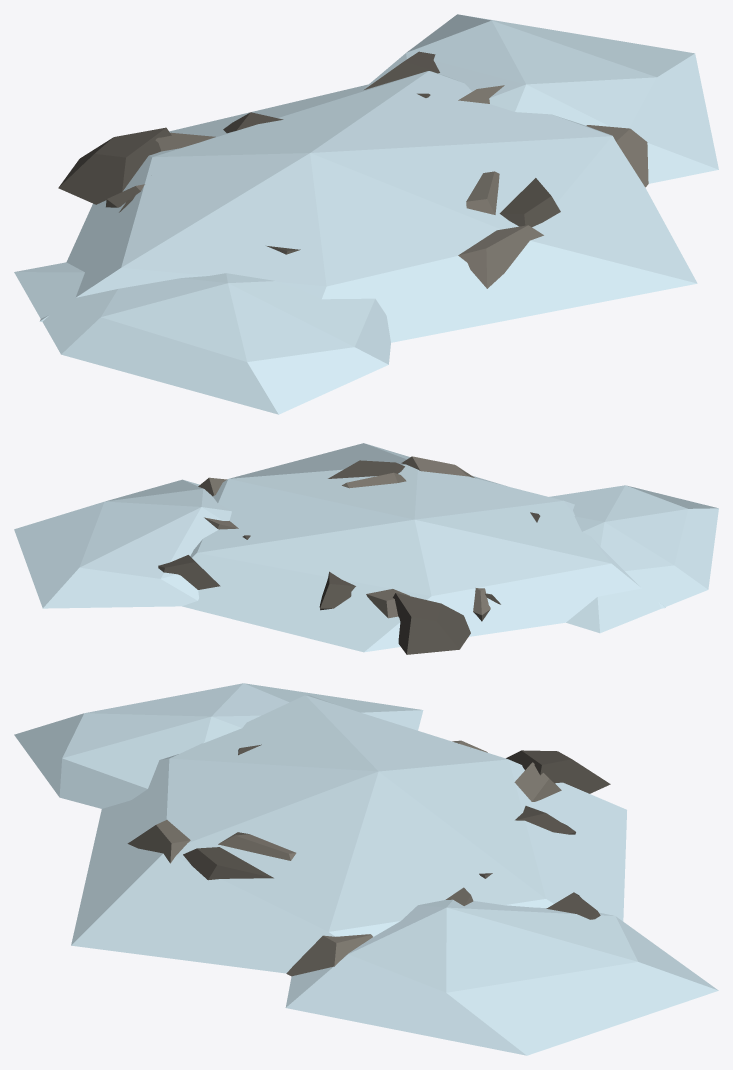
Rendered from props_mountains.glb.
3 renders of one model, top to bottom at view 1: azimuth 30°, elevation 25°; view 2: azimuth 150°, elevation 25°; view 3: azimuth 270°, elevation 25°, orthographic. The views are drawn at different scales.
Visible parts, largest first — view 1: Mtn_SnowPatch_LOD0, Mtn_ScreeSheet_LOD0, Mtn_FrostShards_LOD0, Mtn_TalusFan_LOD0; view 2: Mtn_SnowPatch_LOD0, Mtn_ScreeSheet_LOD0, Mtn_FrostShards_LOD0, Mtn_TalusFan_LOD0; view 3: Mtn_SnowPatch_LOD0, Mtn_ScreeSheet_LOD0, Mtn_FrostShards_LOD0, Mtn_TalusFan_LOD0.
Boxes of the visible parts, <box> form: Mtn_SnowPatch_LOD0: <box>14,14,718,414</box>; Mtn_ScreeSheet_LOD0: <box>58,51,648,288</box>; Mtn_FrostShards_LOD0: <box>106,85,560,254</box>; Mtn_TalusFan_LOD0: <box>417,93,499,214</box>; Mtn_SnowPatch_LOD0: <box>14,443,718,652</box>; Mtn_ScreeSheet_LOD0: <box>158,456,500,654</box>; Mtn_FrostShards_LOD0: <box>204,460,540,621</box>; Mtn_TalusFan_LOD0: <box>242,472,406,539</box>; Mtn_SnowPatch_LOD0: <box>14,683,718,1055</box>; Mtn_ScreeSheet_LOD0: <box>127,750,610,976</box>; Mtn_FrostShards_LOD0: <box>183,740,575,905</box>; Mtn_TalusFan_LOD0: <box>218,832,492,878</box>.
Size of what is drawn, in the model's own units: 2.6 by 0.22 by 2.1.
